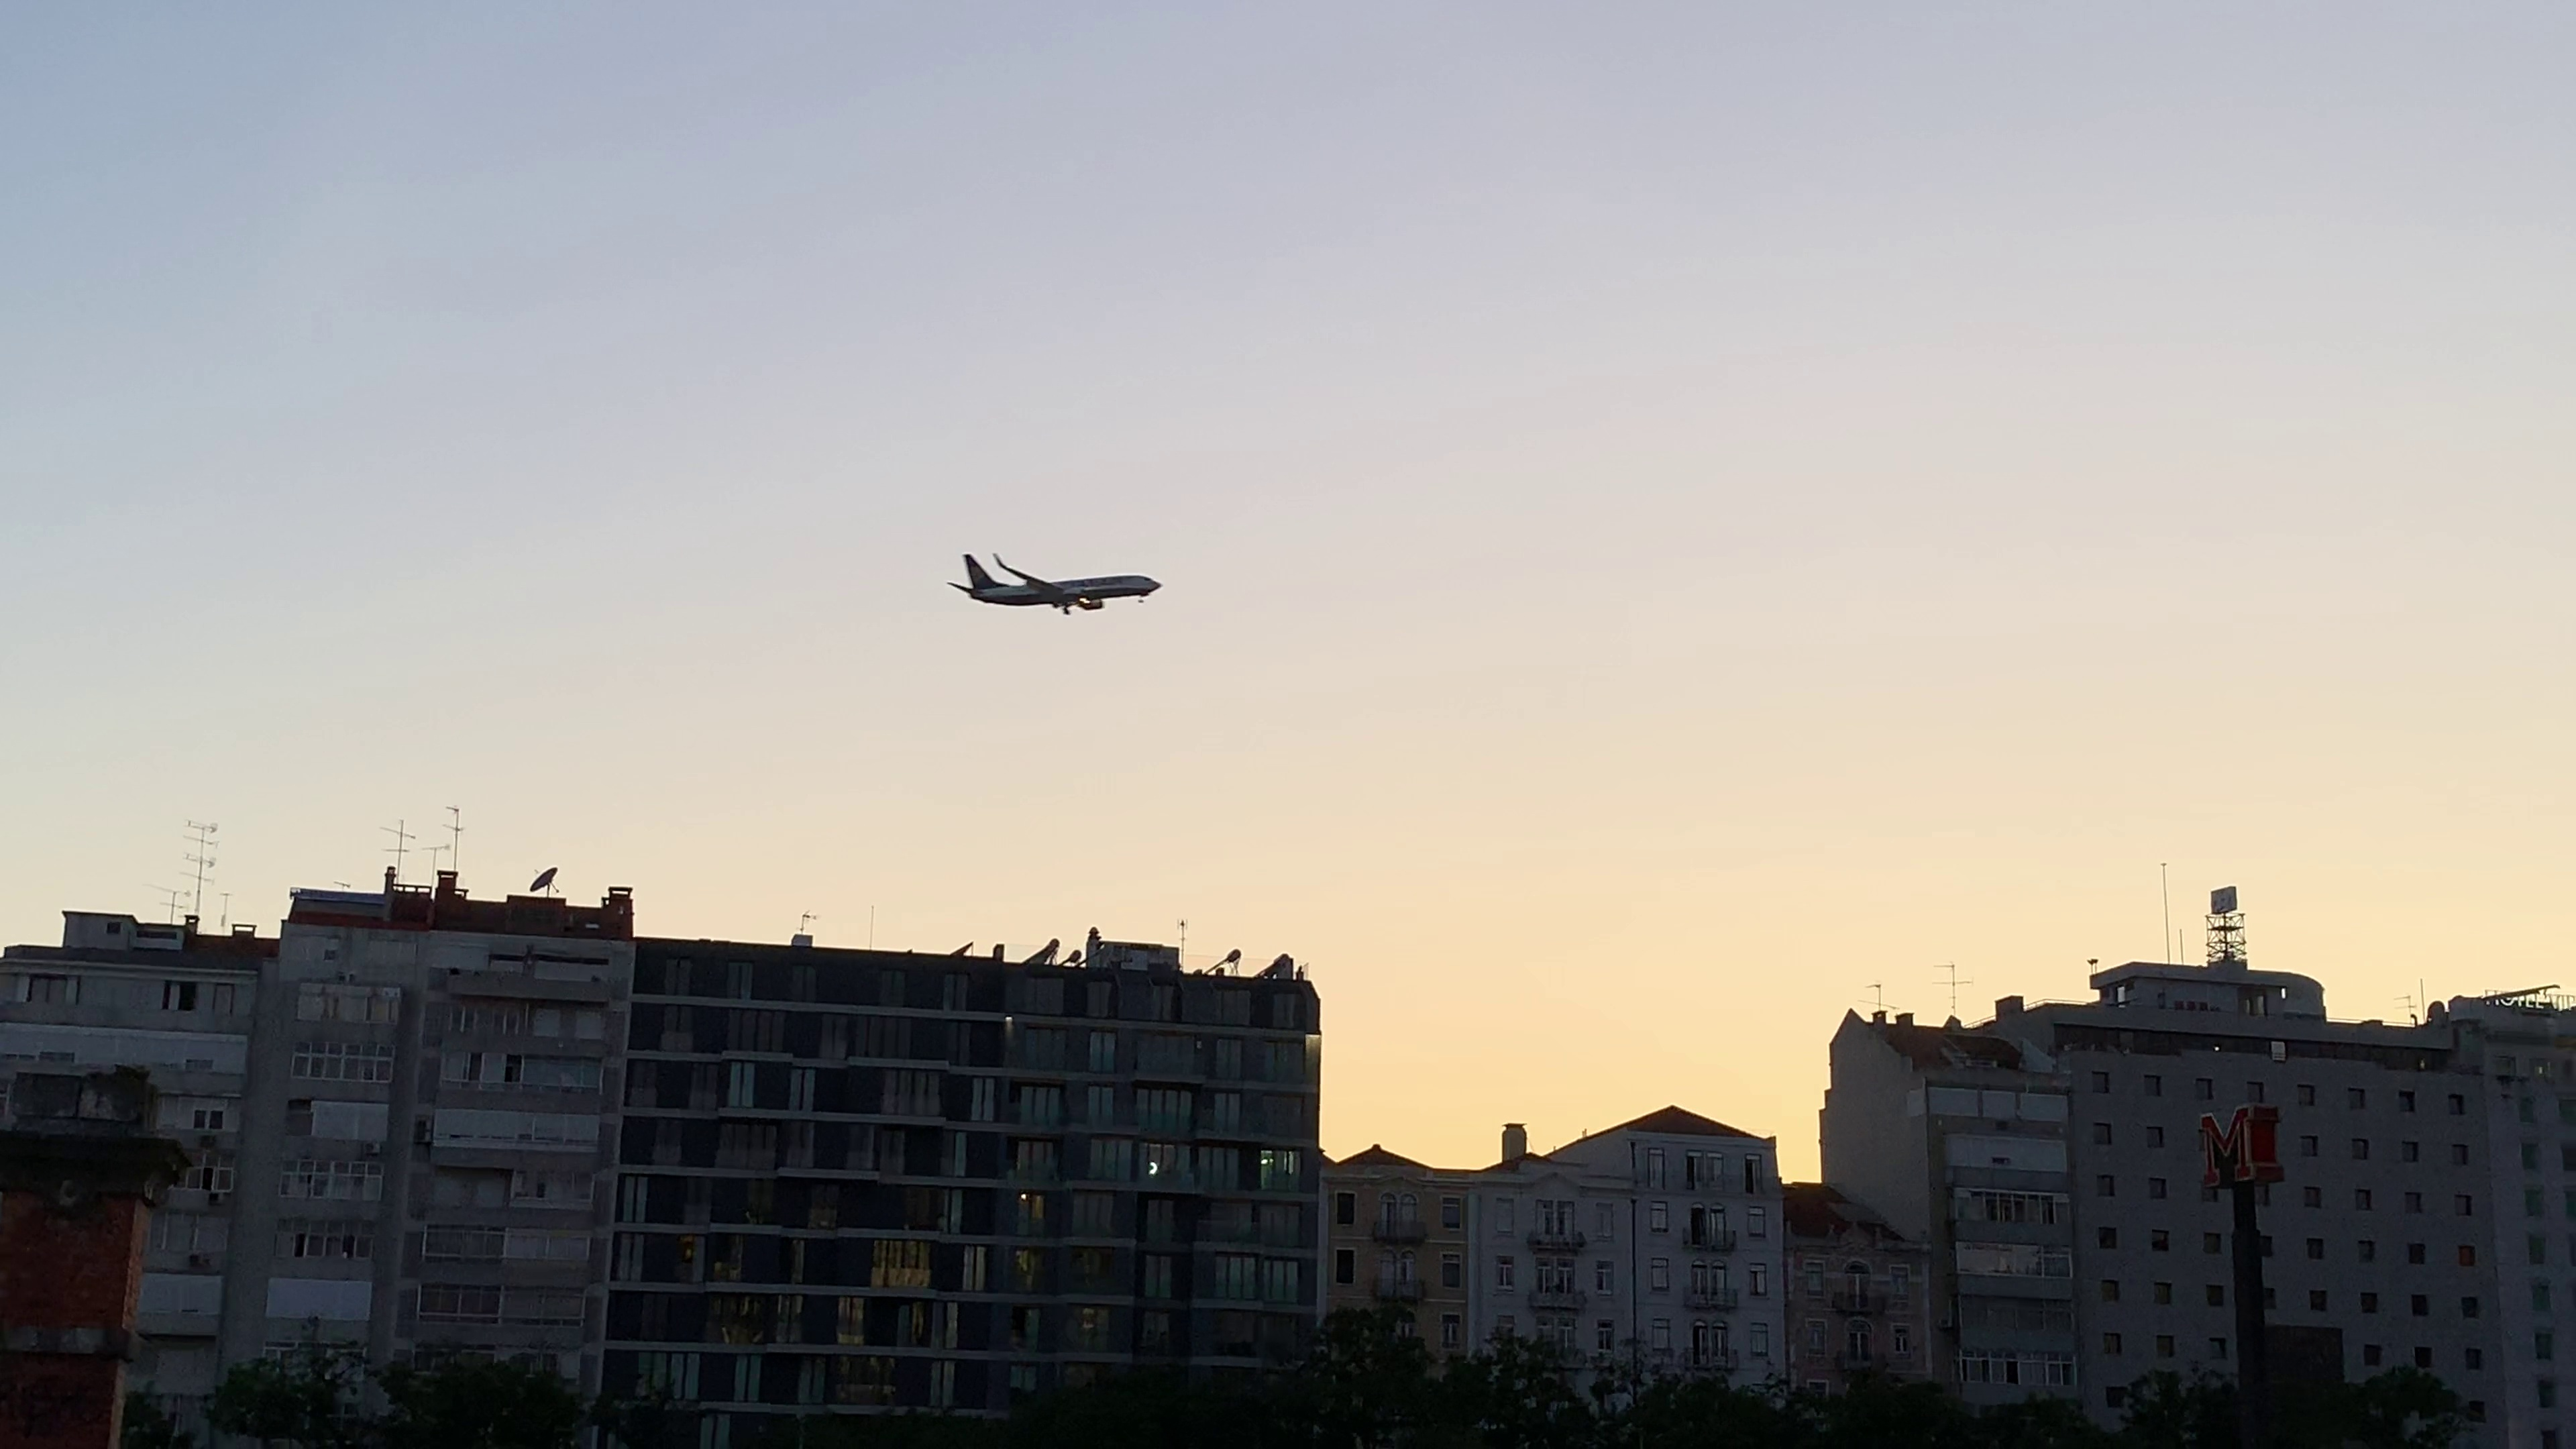plane: (943, 552, 1161, 619)
